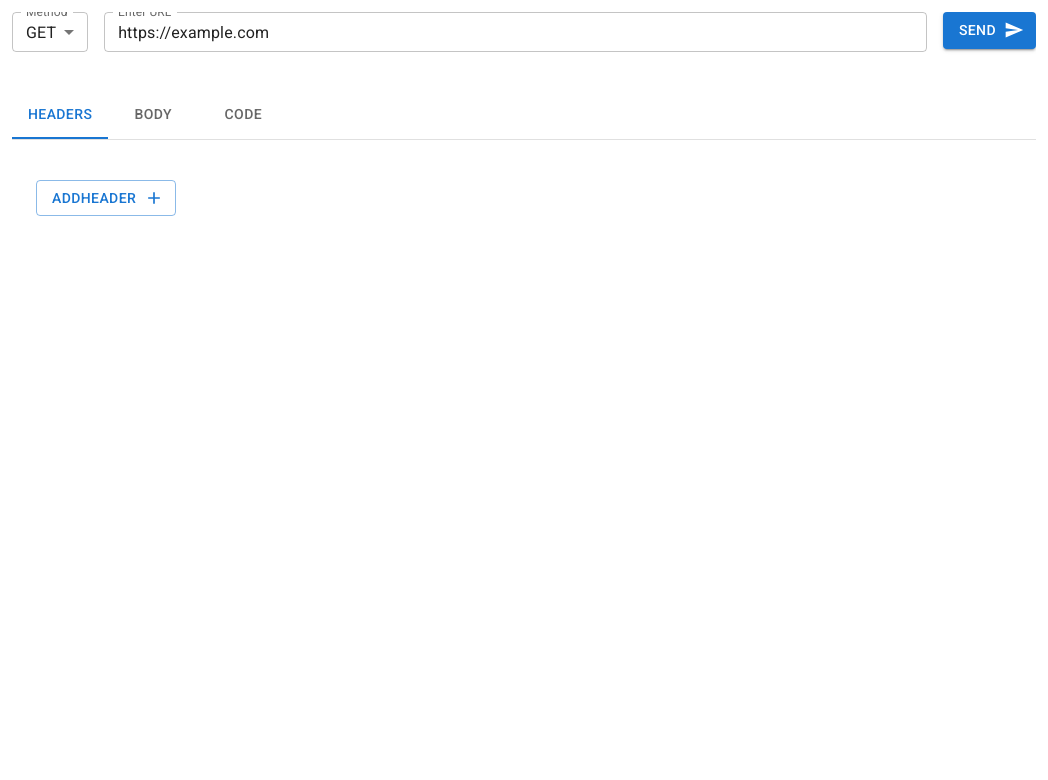
it: RequestForm › open snackbar when fetch throws
The width and height of the screenshot is (1048, 780).
Step 1. Click the button "Send" → (989, 30), box [943,12,1036,48]
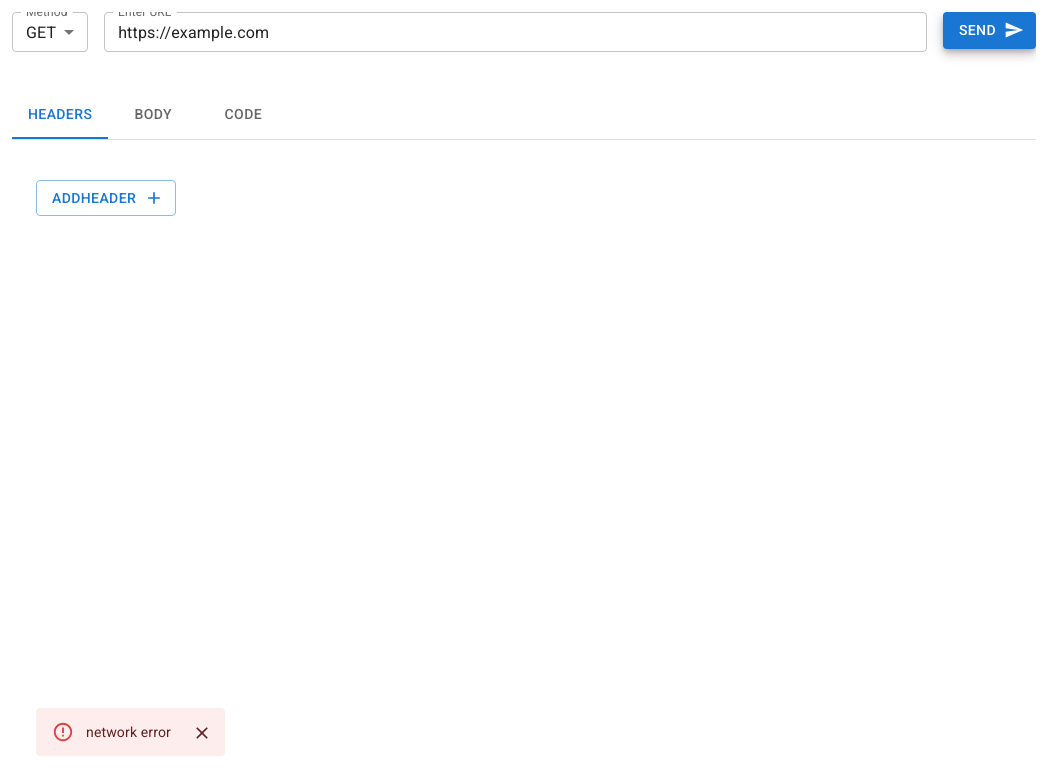
Now the text "network error" is shown, box [86,724,171,740]
